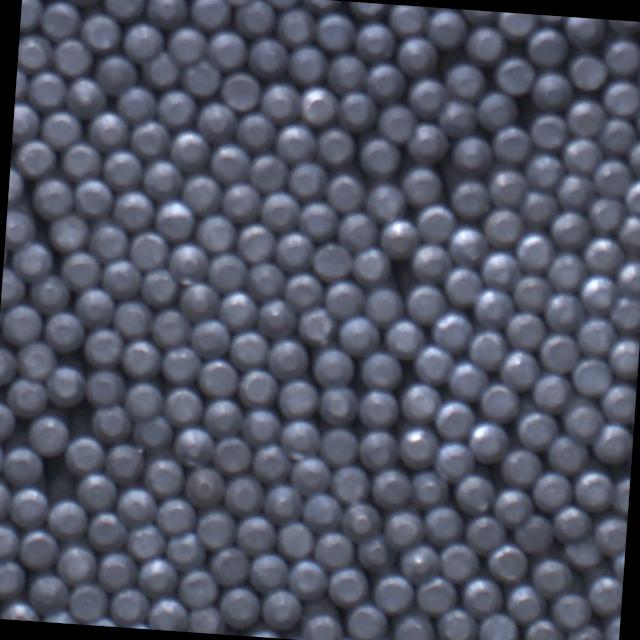tool: (218, 584, 262, 628), (26, 414, 69, 458), (466, 418, 509, 462), (572, 466, 614, 511), (28, 572, 71, 615), (10, 240, 54, 282), (96, 52, 140, 94), (88, 108, 132, 150), (143, 156, 185, 200), (44, 365, 86, 408), (2, 302, 45, 344), (29, 176, 72, 218), (223, 473, 266, 515), (114, 188, 157, 230), (590, 421, 632, 464), (184, 465, 227, 507), (461, 576, 504, 618), (268, 336, 310, 379), (170, 129, 212, 172), (9, 484, 50, 528), (398, 426, 439, 470), (238, 512, 280, 554), (44, 312, 86, 354), (58, 544, 100, 586), (288, 559, 330, 601), (100, 256, 142, 298), (278, 417, 320, 459), (122, 19, 164, 61), (432, 439, 474, 481), (175, 426, 217, 468), (262, 189, 304, 231), (339, 315, 381, 357), (18, 527, 60, 569), (143, 456, 185, 498), (276, 122, 318, 164), (156, 200, 198, 242), (396, 35, 438, 77), (48, 496, 90, 538), (365, 60, 407, 102), (102, 147, 144, 189), (312, 345, 354, 387), (168, 242, 210, 284), (531, 556, 573, 598), (258, 296, 300, 338), (359, 428, 400, 471), (195, 507, 238, 548), (432, 309, 473, 352), (407, 122, 450, 163), (486, 540, 530, 580), (561, 398, 601, 442), (426, 7, 468, 48), (220, 70, 262, 111), (3, 444, 45, 485), (260, 589, 302, 630), (374, 573, 416, 614), (211, 140, 252, 182), (166, 528, 208, 569), (532, 470, 573, 512), (512, 512, 553, 554), (249, 37, 291, 78), (327, 566, 369, 607), (138, 557, 180, 598), (526, 25, 568, 66), (372, 468, 414, 509), (98, 551, 140, 592), (290, 456, 332, 497), (105, 442, 147, 483), (88, 512, 130, 553), (190, 317, 232, 358), (301, 492, 343, 533), (446, 360, 488, 401), (66, 78, 108, 119), (515, 410, 558, 450), (27, 273, 70, 313), (399, 542, 442, 582), (120, 336, 163, 376), (115, 484, 158, 524), (355, 534, 398, 574), (299, 84, 340, 125), (207, 28, 248, 69), (248, 550, 289, 591), (455, 473, 496, 514), (538, 332, 579, 373), (338, 89, 379, 130), (412, 343, 453, 384), (182, 173, 223, 214), (238, 111, 279, 152), (416, 575, 458, 615), (210, 544, 252, 584), (490, 487, 532, 527), (5, 376, 47, 416), (546, 434, 588, 474), (384, 316, 424, 358), (48, 212, 90, 252), (152, 308, 192, 350), (75, 286, 117, 326), (340, 502, 382, 542), (222, 181, 262, 223), (76, 472, 118, 512), (91, 404, 133, 444), (406, 281, 446, 323), (178, 281, 220, 321), (197, 100, 239, 140), (469, 328, 508, 371), (494, 55, 535, 95), (41, 109, 82, 149), (73, 178, 114, 218), (356, 21, 396, 62), (276, 229, 316, 270), (326, 170, 366, 211), (317, 10, 358, 50), (441, 543, 482, 583), (572, 355, 613, 395), (61, 250, 102, 290), (422, 503, 462, 544), (300, 199, 340, 240), (162, 386, 203, 426), (207, 252, 248, 292), (68, 580, 109, 620), (402, 165, 443, 205), (400, 380, 440, 421), (278, 376, 318, 417), (384, 508, 425, 548), (500, 348, 539, 390), (347, 601, 389, 640), (478, 253, 520, 292), (130, 230, 170, 270), (42, 0, 82, 40), (16, 138, 56, 178), (320, 426, 360, 466), (236, 224, 276, 264), (506, 583, 546, 623), (466, 514, 506, 554), (178, 567, 218, 607), (124, 380, 164, 420), (169, 25, 209, 65), (476, 90, 516, 130), (220, 290, 260, 330), (340, 210, 380, 250), (156, 86, 196, 126), (478, 382, 518, 422), (332, 462, 372, 502), (250, 152, 290, 192), (330, 53, 370, 93), (366, 181, 406, 221), (316, 125, 356, 165), (378, 216, 418, 256), (327, 278, 367, 318), (263, 79, 303, 119), (360, 136, 400, 176), (264, 482, 304, 522), (198, 357, 238, 397), (320, 386, 360, 426), (411, 241, 451, 281), (314, 241, 355, 280), (156, 497, 197, 536), (17, 339, 58, 378), (84, 369, 125, 408), (61, 140, 102, 179), (358, 389, 399, 428), (80, 10, 121, 49), (551, 590, 592, 629), (66, 433, 107, 472), (432, 399, 473, 438), (442, 61, 483, 100), (314, 531, 356, 569), (553, 505, 593, 544), (181, 58, 221, 97), (240, 407, 280, 446), (378, 103, 418, 142), (132, 119, 172, 158), (500, 448, 540, 487), (362, 350, 402, 389), (566, 97, 606, 136), (142, 50, 182, 89), (89, 221, 129, 260), (202, 398, 242, 437), (409, 469, 449, 508), (450, 178, 490, 217), (85, 326, 125, 365), (444, 266, 483, 306), (515, 232, 554, 272), (439, 96, 478, 136), (125, 523, 166, 561), (134, 412, 176, 449), (586, 572, 622, 615), (289, 44, 328, 83), (30, 70, 70, 108), (114, 300, 154, 338), (278, 6, 318, 44), (116, 84, 156, 122), (286, 272, 326, 310), (161, 344, 201, 382), (110, 588, 150, 626), (142, 268, 180, 308), (241, 366, 281, 404), (484, 206, 524, 244), (534, 70, 574, 108), (475, 286, 515, 324), (449, 134, 490, 171), (600, 382, 636, 424), (214, 434, 253, 472), (465, 25, 504, 63), (232, 329, 270, 368), (199, 214, 238, 252), (578, 317, 616, 356), (288, 161, 328, 198), (506, 312, 546, 349), (54, 36, 92, 74), (278, 519, 316, 557), (254, 446, 292, 484), (492, 122, 530, 160), (300, 306, 338, 344), (534, 371, 572, 409), (250, 262, 288, 300), (418, 203, 456, 241), (488, 167, 526, 205), (446, 224, 484, 262), (592, 157, 630, 195), (567, 52, 606, 89), (17, 33, 54, 72), (409, 76, 446, 115), (520, 188, 559, 225), (148, 596, 188, 632), (562, 137, 602, 173), (236, 0, 278, 34), (366, 286, 404, 323), (550, 210, 588, 247), (603, 38, 640, 75), (354, 246, 392, 282), (529, 112, 567, 148), (548, 252, 584, 290), (580, 274, 615, 313), (514, 274, 549, 313), (603, 78, 640, 114), (548, 292, 582, 331), (608, 338, 640, 379), (438, 608, 479, 640), (597, 118, 633, 154), (526, 152, 562, 188), (584, 236, 620, 272), (592, 516, 626, 554), (565, 16, 605, 48), (609, 289, 640, 330), (477, 610, 519, 640), (300, 610, 342, 640), (590, 198, 624, 235), (188, 0, 230, 29), (4, 209, 35, 248), (388, 4, 428, 34), (391, 611, 432, 640), (558, 174, 592, 208), (12, 101, 40, 142), (0, 557, 26, 598), (146, 0, 188, 25), (188, 604, 223, 634), (1, 268, 27, 308), (616, 254, 640, 292), (524, 618, 565, 640), (610, 469, 630, 514), (494, 12, 534, 34), (0, 599, 39, 621), (0, 521, 20, 561), (618, 214, 640, 250), (103, 0, 146, 18), (7, 165, 26, 205), (20, 0, 44, 31), (564, 621, 603, 640), (0, 345, 17, 384), (40, 609, 83, 624), (348, 1, 390, 16), (0, 401, 16, 440), (623, 177, 640, 212), (14, 67, 28, 104), (0, 479, 12, 521), (611, 544, 625, 580), (242, 626, 282, 638), (604, 613, 620, 640), (300, 0, 342, 10), (629, 139, 640, 175), (84, 616, 121, 626), (261, 0, 301, 8), (121, 620, 156, 629), (217, 0, 258, 5), (329, 635, 364, 640), (0, 437, 4, 478), (364, 636, 401, 640)
